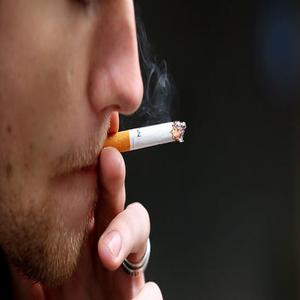cigarette: (95, 119, 187, 154)
